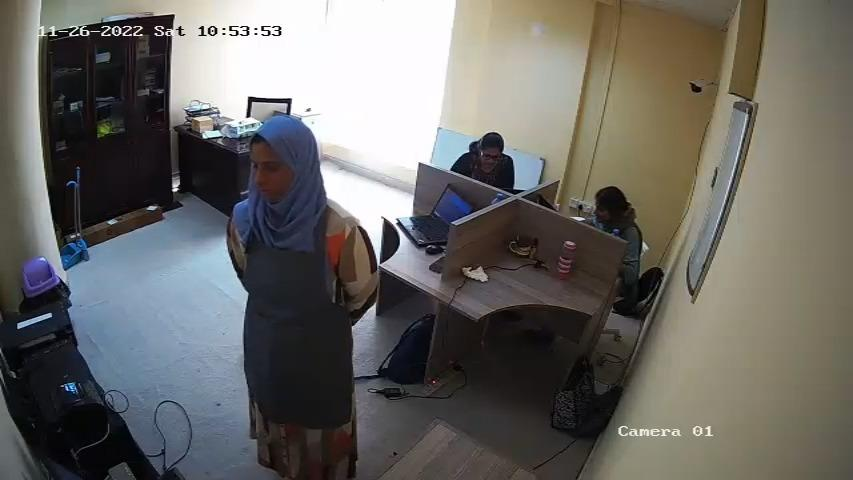apron: (228, 219, 358, 428), (410, 229, 411, 230)
